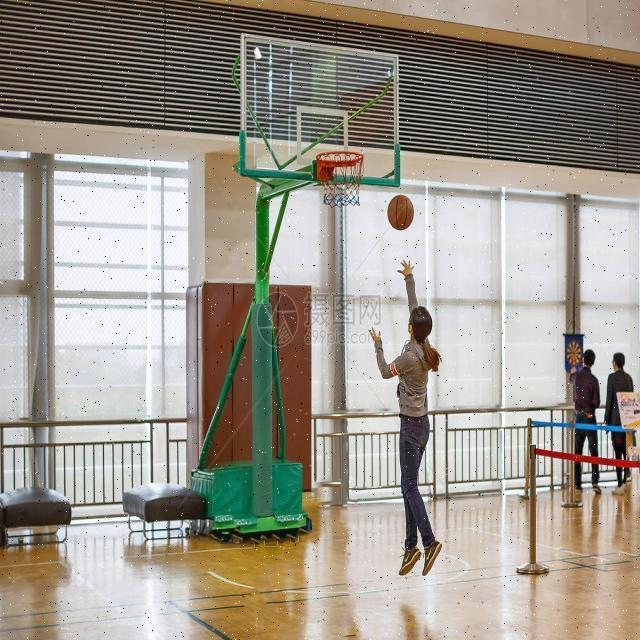ball: (387, 194, 414, 232)
